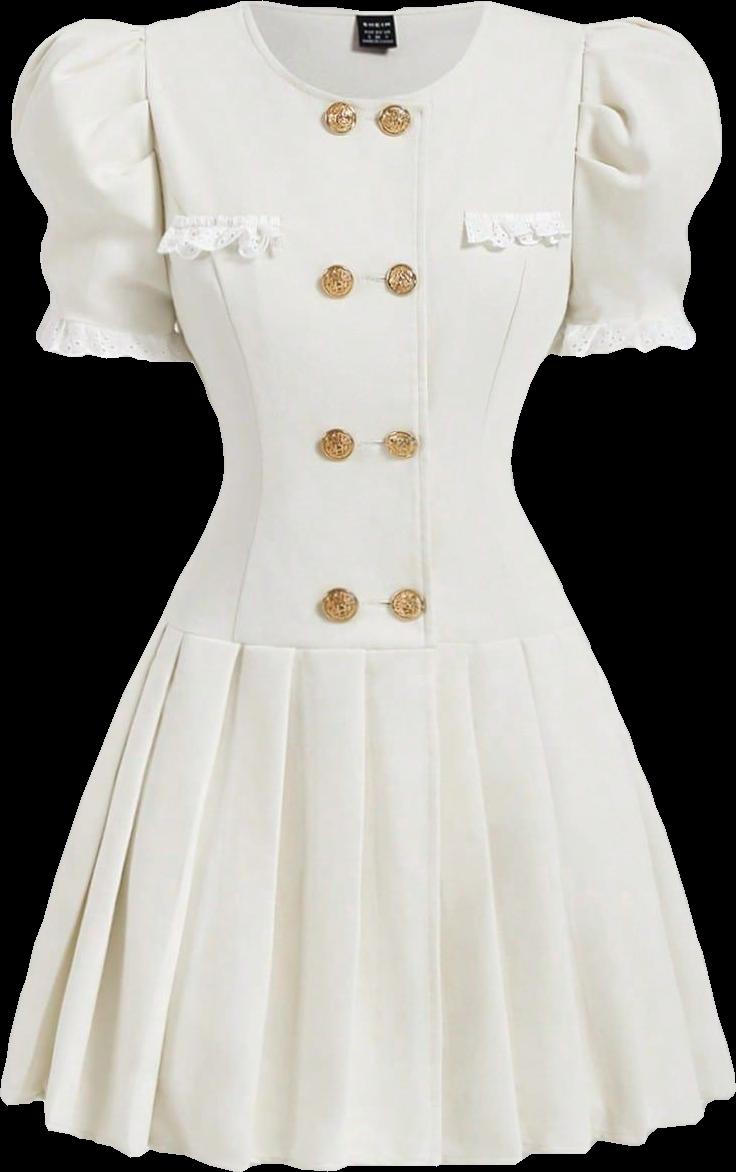Bodice: (145, 2, 586, 655)
Hemline: (0, 1083, 735, 1171)
Neckline: (239, 0, 496, 109)
Skirt: (0, 626, 734, 1171)
Sleeve: (11, 19, 192, 361), (546, 17, 721, 357)
Sleeveline: (135, 22, 173, 294), (567, 20, 600, 310), (47, 299, 185, 334), (575, 297, 686, 326)
Waistline: (153, 614, 586, 662)
